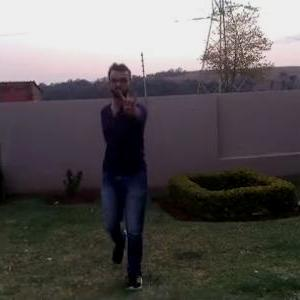takeoff-hand: (112, 86, 147, 122)
